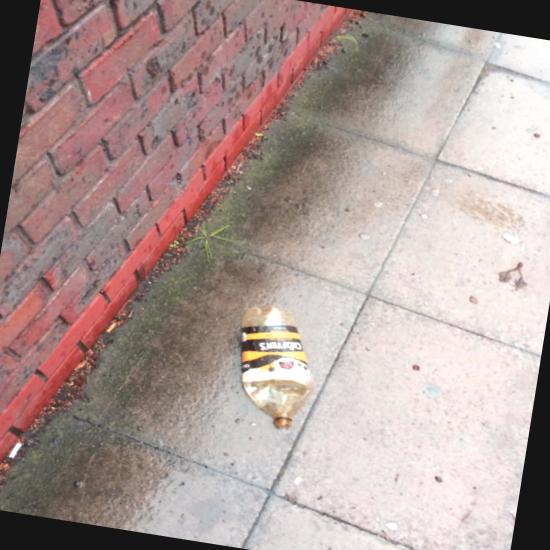Cigarette: (8, 442, 21, 457), (105, 323, 116, 333)
Clear plastic bottle: (240, 305, 315, 428)
